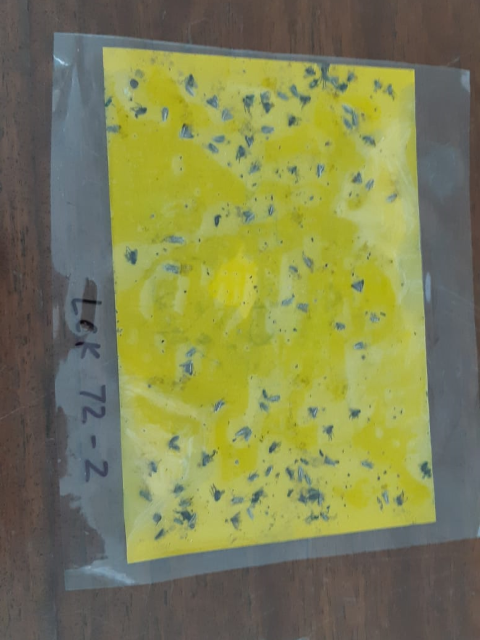DBM: (177, 358, 197, 378), (176, 121, 195, 141), (233, 424, 253, 442), (209, 397, 228, 415), (218, 106, 235, 123), (348, 277, 365, 294), (340, 115, 356, 133), (204, 92, 219, 110), (103, 124, 125, 135), (300, 255, 316, 270), (243, 133, 257, 150), (241, 210, 258, 224), (163, 261, 180, 275), (279, 294, 295, 308), (260, 123, 277, 136), (314, 162, 326, 180), (206, 141, 221, 155), (295, 300, 310, 314), (350, 170, 363, 186), (159, 106, 170, 124), (184, 346, 199, 359), (308, 405, 321, 420), (274, 89, 290, 101), (229, 494, 245, 506), (167, 234, 186, 244), (303, 469, 313, 488), (182, 83, 195, 97), (212, 133, 227, 145), (383, 192, 399, 203), (212, 213, 223, 229), (296, 465, 305, 484), (364, 178, 376, 192), (351, 339, 365, 351), (289, 84, 300, 99), (341, 103, 353, 116), (367, 312, 380, 324), (350, 112, 361, 126), (266, 202, 275, 219), (266, 394, 283, 403), (381, 489, 391, 504), (187, 511, 197, 526), (328, 77, 338, 89)
